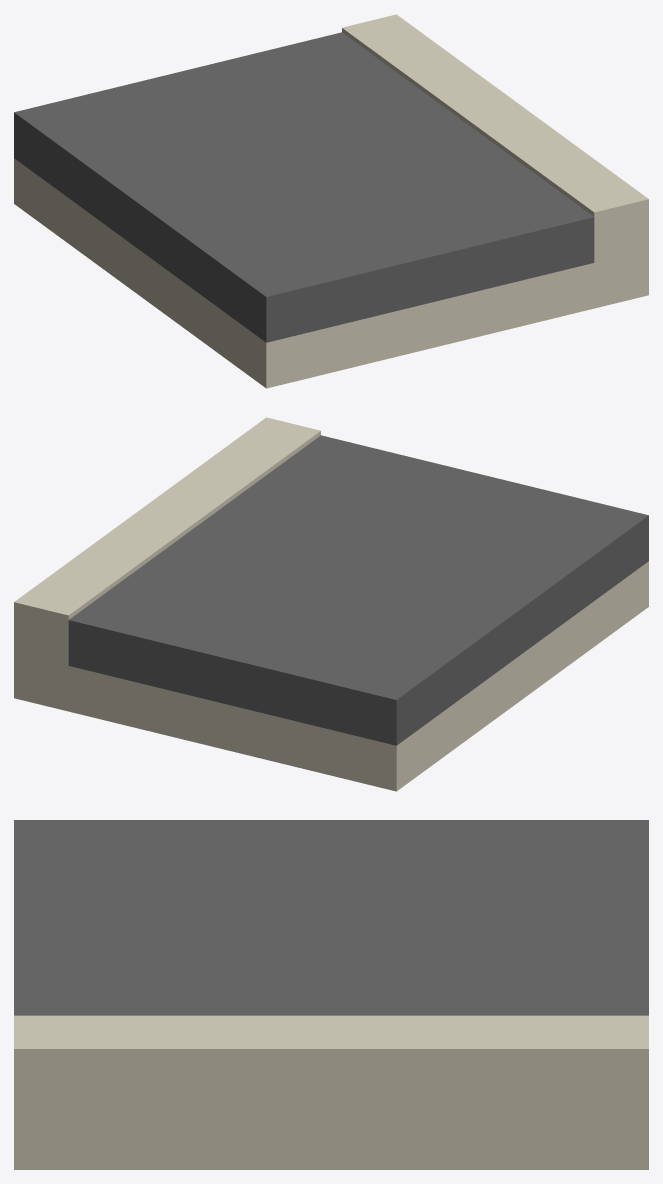
The model's file is tile223.fbx.
The picture shows the model from 3 angles, top to bottom: view 1: azimuth 30°, elevation 25°; view 2: azimuth 150°, elevation 25°; view 3: azimuth 270°, elevation 25°; orthographic projection. The views are drawn at different scales.
Visible parts, largest first — view 1: tile223; view 2: tile223; view 3: tile223.
Boxes of the visible parts, x1,y1,x2,y2 form: tile223: (14,14,648,388); tile223: (14,417,648,791); tile223: (14,820,648,1169).
Size of the model in its own units: 8.75 by 2.1 by 10.
